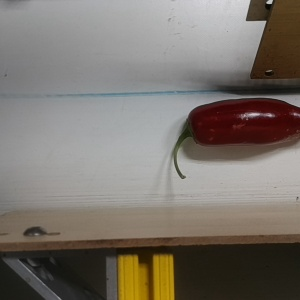Cut Point: (177, 105, 211, 147)
